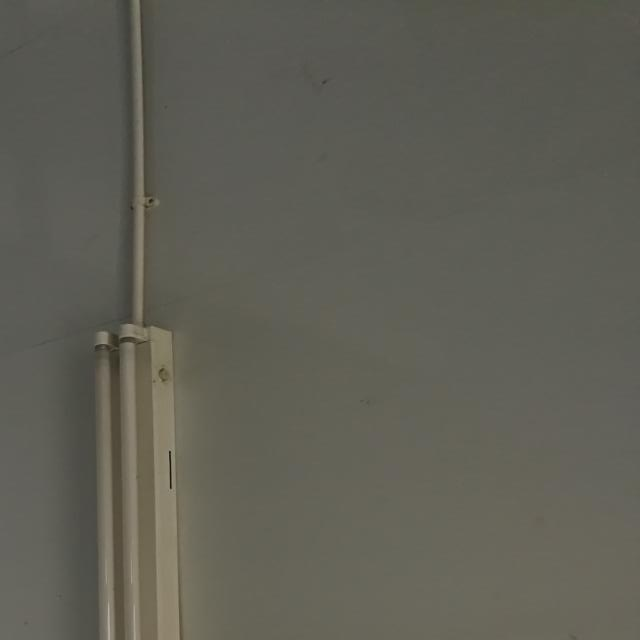fluorescent tube: (55, 313, 212, 640)
